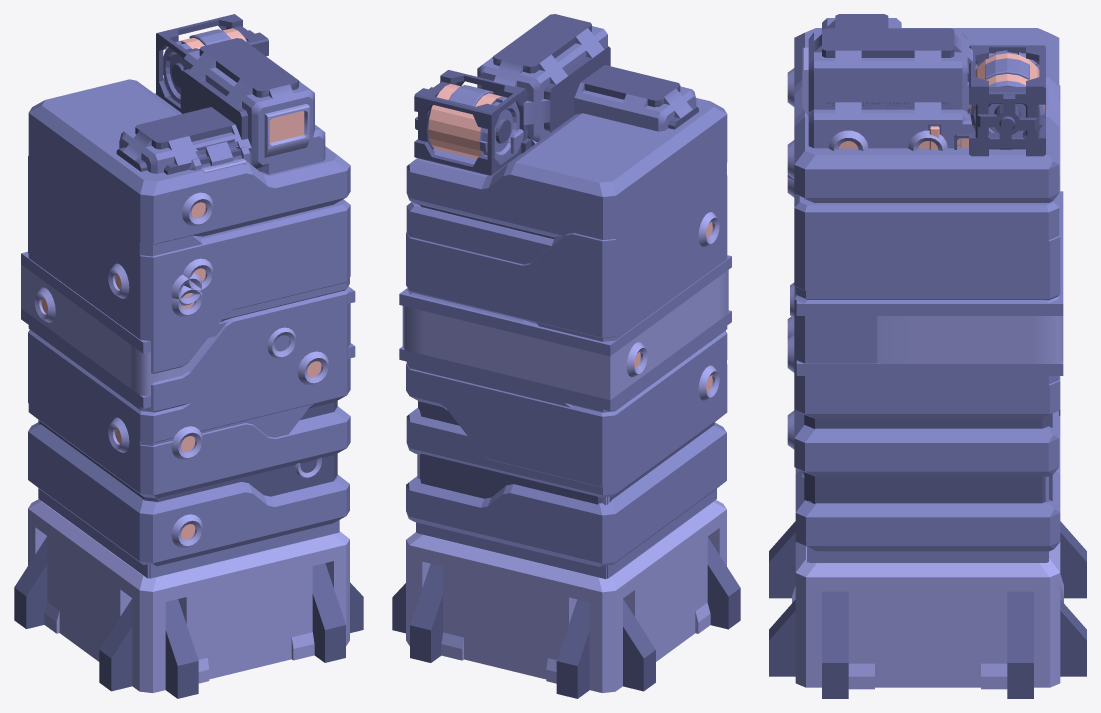
The model's file is SM_ENV_Buildings_Robot.fbx.
3 renders of one model, left to right at view 1: azimuth 30°, elevation 25°; view 2: azimuth 150°, elevation 25°; view 3: azimuth 270°, elevation 25°, orthographic. The views are drawn at different scales.
Visible parts, largest first — view 1: Robo_House_04, Robo_House_02, Robo_House_03, Robo_House_01; view 2: Robo_House_03, Robo_House_04, Robo_House_01, Robo_House_02; view 3: Robo_House_03, Robo_House_04, Robo_House_02, Robo_House_01.
Part boxes in pixels (bbox=[...]): Robo_House_04: bbox=[14, 14, 363, 698]; Robo_House_02: bbox=[27, 92, 363, 698]; Robo_House_03: bbox=[21, 125, 363, 690]; Robo_House_01: bbox=[28, 107, 345, 698]; Robo_House_03: bbox=[394, 158, 735, 648]; Robo_House_04: bbox=[392, 14, 740, 698]; Robo_House_01: bbox=[392, 65, 728, 698]; Robo_House_02: bbox=[406, 129, 727, 691]; Robo_House_03: bbox=[769, 85, 1086, 698]; Robo_House_04: bbox=[787, 28, 1059, 689]; Robo_House_02: bbox=[769, 113, 1086, 675]; Robo_House_01: bbox=[769, 14, 1086, 675].
Size of the model in its own units: 1200 by 2560 by 1200.
